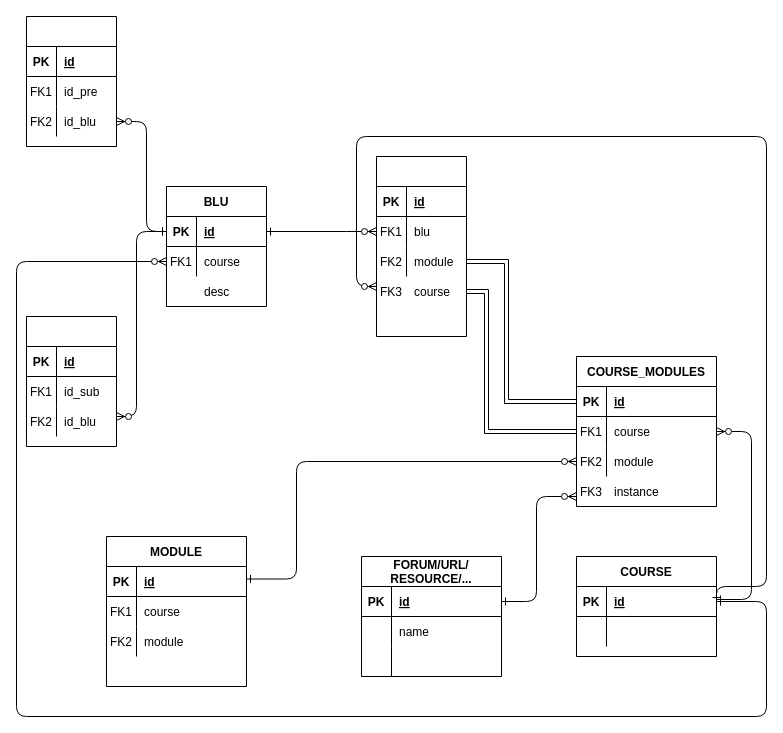
Some shapes in this 783 by 733 pixel diagram are drawn without their labels. The shapes that lost their labels are listed below. From the top down, each one's box as (x1, y1, x2, y2) in pixels, then its label:
(26, 16, 116, 146): BLUPRE
(376, 156, 466, 336): BLUMOD
(26, 316, 116, 446): BLUSUB
